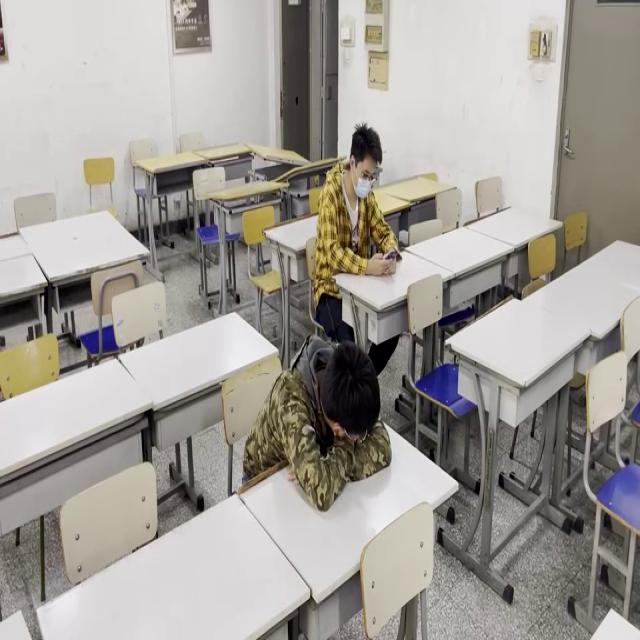sleep: (260, 340, 392, 510)
